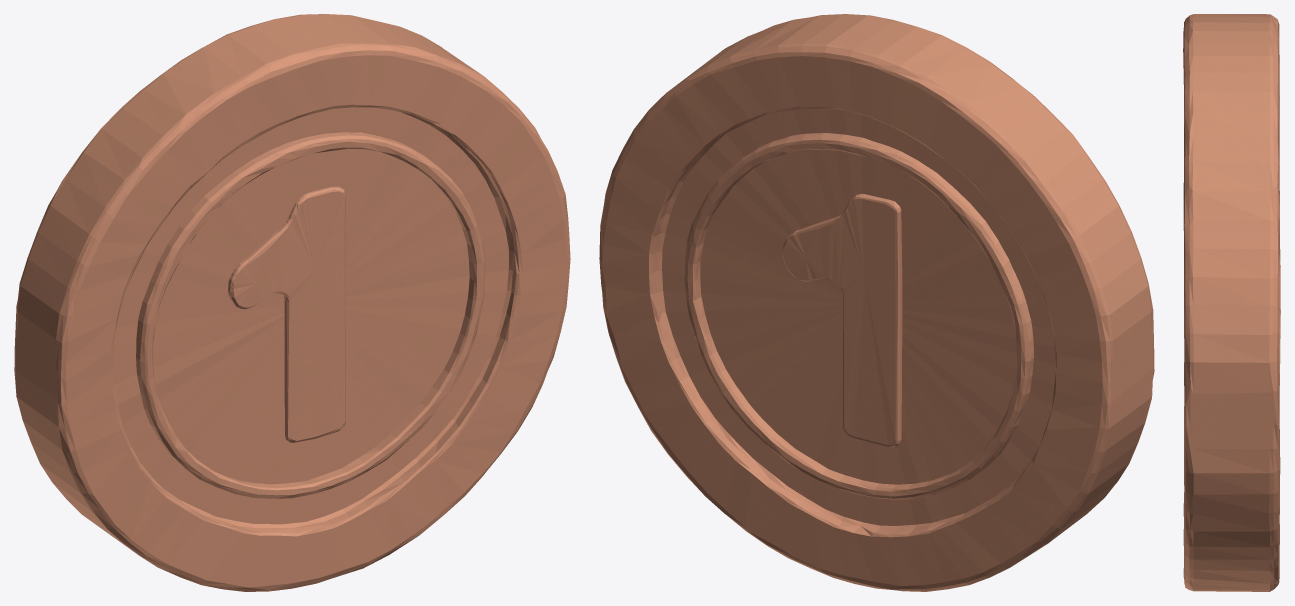
Rendered from Copper_Coin.glb.
3 views of the same model, side by side, from view 1: azimuth 30°, elevation 25°; view 2: azimuth 150°, elevation 25°; view 3: azimuth 270°, elevation 25° (orthographic). The views are drawn at different scales.
Parts seen in each view (by area): view 1: mesh_node; view 2: mesh_node; view 3: mesh_node.
Part boxes in pixels (x1,y1,x2,y2): mesh_node: (14, 14, 570, 591); mesh_node: (599, 14, 1154, 591); mesh_node: (1183, 14, 1280, 591).
Bounding box in the file's own units: 1 × 1 × 0.1694.
Materials: 1 (1 with a texture image).
